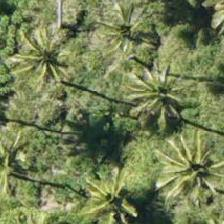coconut_tree: (110, 47, 200, 137), (3, 13, 93, 103), (150, 127, 223, 217), (79, 0, 169, 71), (72, 154, 162, 223), (0, 113, 46, 203)
